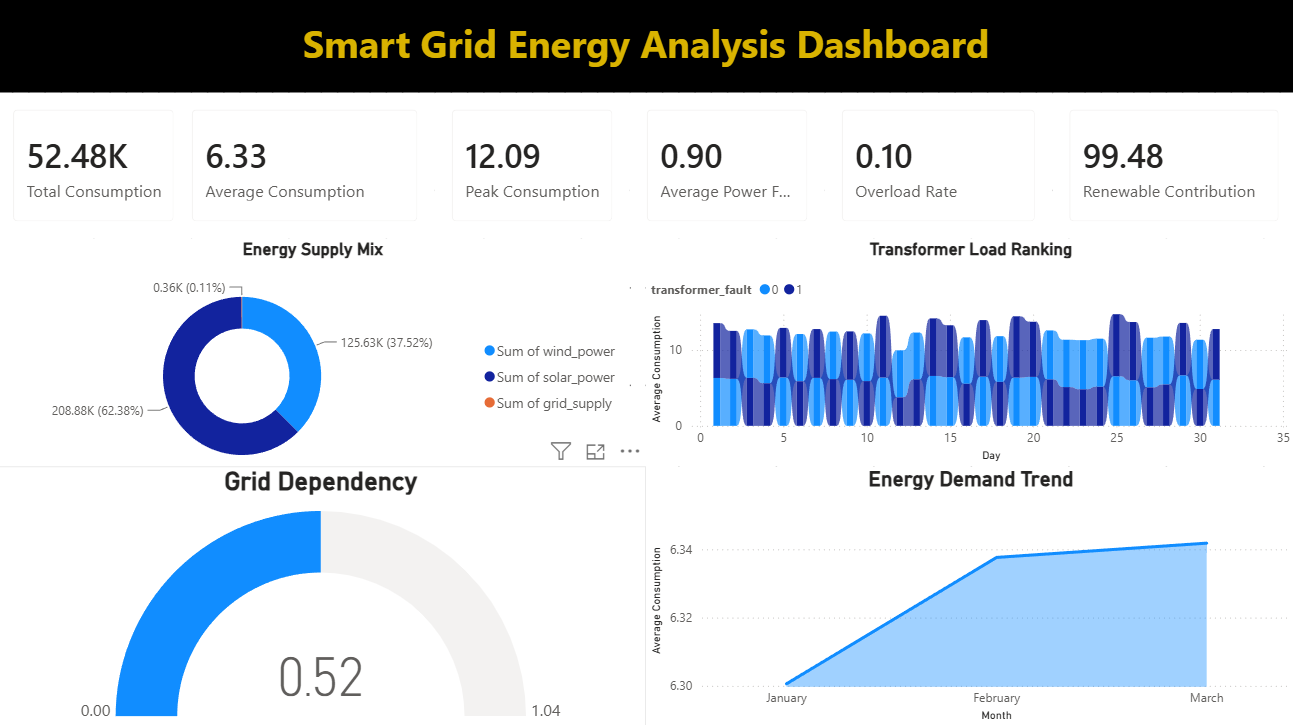

What the dashboard file says about the page in this screenshot:
{"tool":"powerbi","page":{"name":"Executive Overview","canvas":[1280,720],"ordinal":0},"visuals":[{"type":"cardVisual","fields":{"Data":["energy_data.Peak Consumption"]},"box":[432,96,192,144],"z":0},{"type":"cardVisual","fields":{"Data":["energy_data.Total Consumption"]},"box":[0,96,192,144],"z":1},{"type":"cardVisual","fields":{"Data":["energy_data.Renewable Contribution"]},"box":[1040,96,240,144],"z":2},{"type":"cardVisual","fields":{"Data":["energy_data.Average Power Factor"]},"box":[624,96,192,144],"z":3},{"type":"cardVisual","fields":{"Data":["energy_data.Average Consumption"]},"box":[176,96,256,144],"z":4},{"type":"cardVisual","fields":{"Data":["energy_data.Overload Rate"]},"box":[816,96,224,144],"z":5},{"type":"textbox","box":[0,0,1280,96],"z":6},{"type":"donutChart","title":"Energy Supply Mix","fields":{"Y":["Sum(energy_data.wind_power)","Sum(energy_data.solar_power)","Sum(energy_data.grid_supply)"]},"box":[0,240,624,240],"z":7},{"type":"ribbonChart","title":"Transformer Load Ranking","fields":{"Category":["energy_data.timestamp.Variation.Date Hierarchy.Day"],"Y":["energy_data.Average Consumption"],"Series":["energy_data.transformer_fault"]},"box":[640,240,640,224],"z":8},{"type":"gauge","title":"Grid Dependency","fields":{"Y":["energy_data.Average Grid Dependency"]},"box":[0,464,640,256],"z":9},{"type":"areaChart","title":"Energy Demand Trend","fields":{"Category":["energy_data.timestamp.Variation.Date Hierarchy.Month"],"Y":["energy_data.Average Consumption"]},"box":[640,464,640,256],"z":10}]}

Visuals, with their boxes in screenshot pixels (x1, y1, x2, y2), scaled from the page's 1280x720 canvas onto the 1293x725 screenshot:
cardVisual - energy_data.Peak Consumption: 436/97/630/242
cardVisual - energy_data.Total Consumption: 0/97/194/242
cardVisual - energy_data.Renewable Contribution: 1051/97/1292/242
cardVisual - energy_data.Average Power Factor: 630/97/824/242
cardVisual - energy_data.Average Consumption: 178/97/436/242
cardVisual - energy_data.Overload Rate: 824/97/1051/242
textbox: 0/0/1292/97
"Energy Supply Mix" donutChart: 0/242/630/483
"Transformer Load Ranking" ribbonChart: 646/242/1292/467
"Grid Dependency" gauge: 0/467/646/724
"Energy Demand Trend" areaChart: 646/467/1292/724
